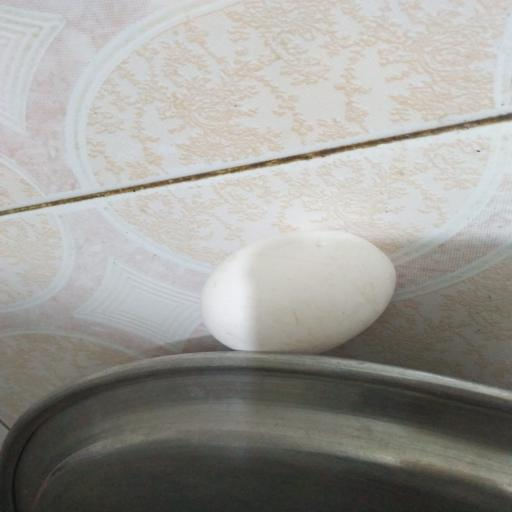telur: (192, 217, 400, 370)
